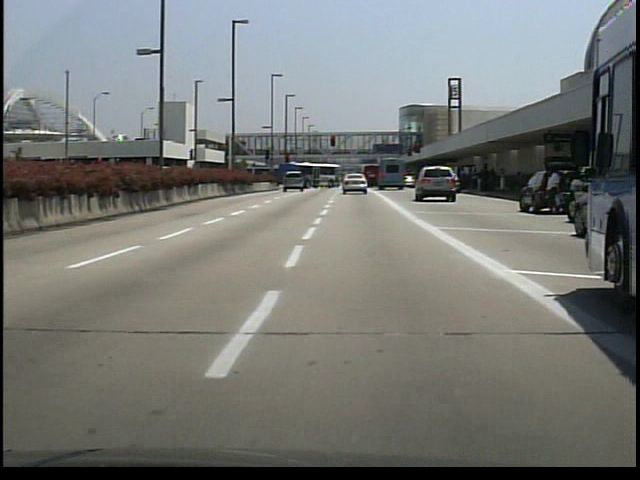person: (543, 167, 562, 213)
